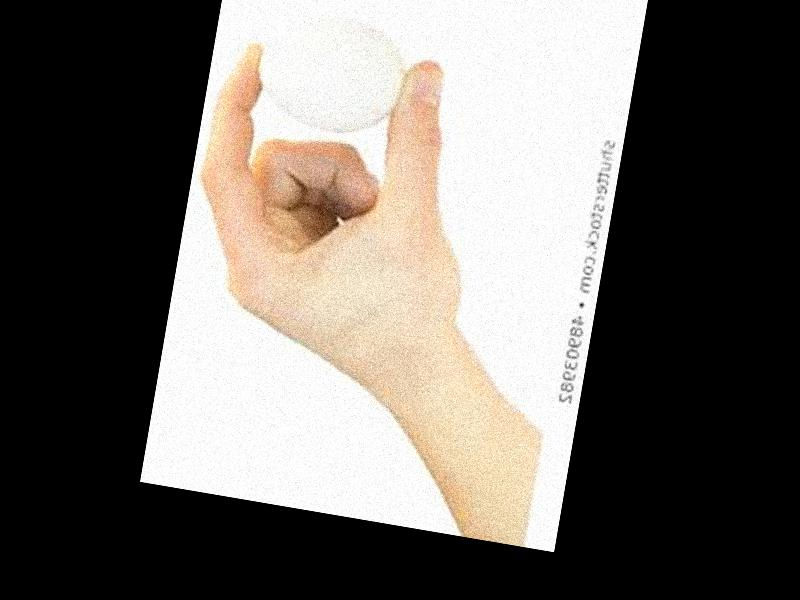Eggs: (250, 8, 413, 143)
